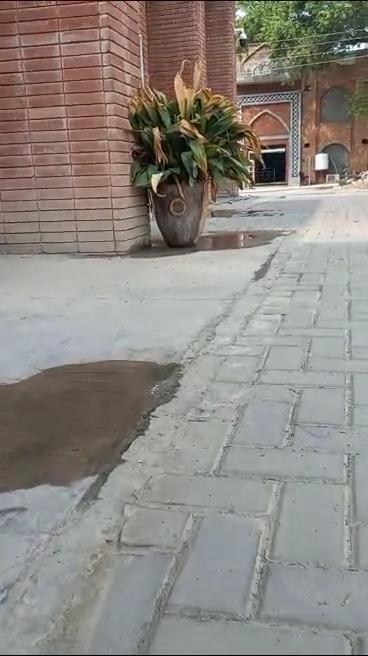water accumulation: (0, 357, 184, 495), (126, 226, 288, 258)
